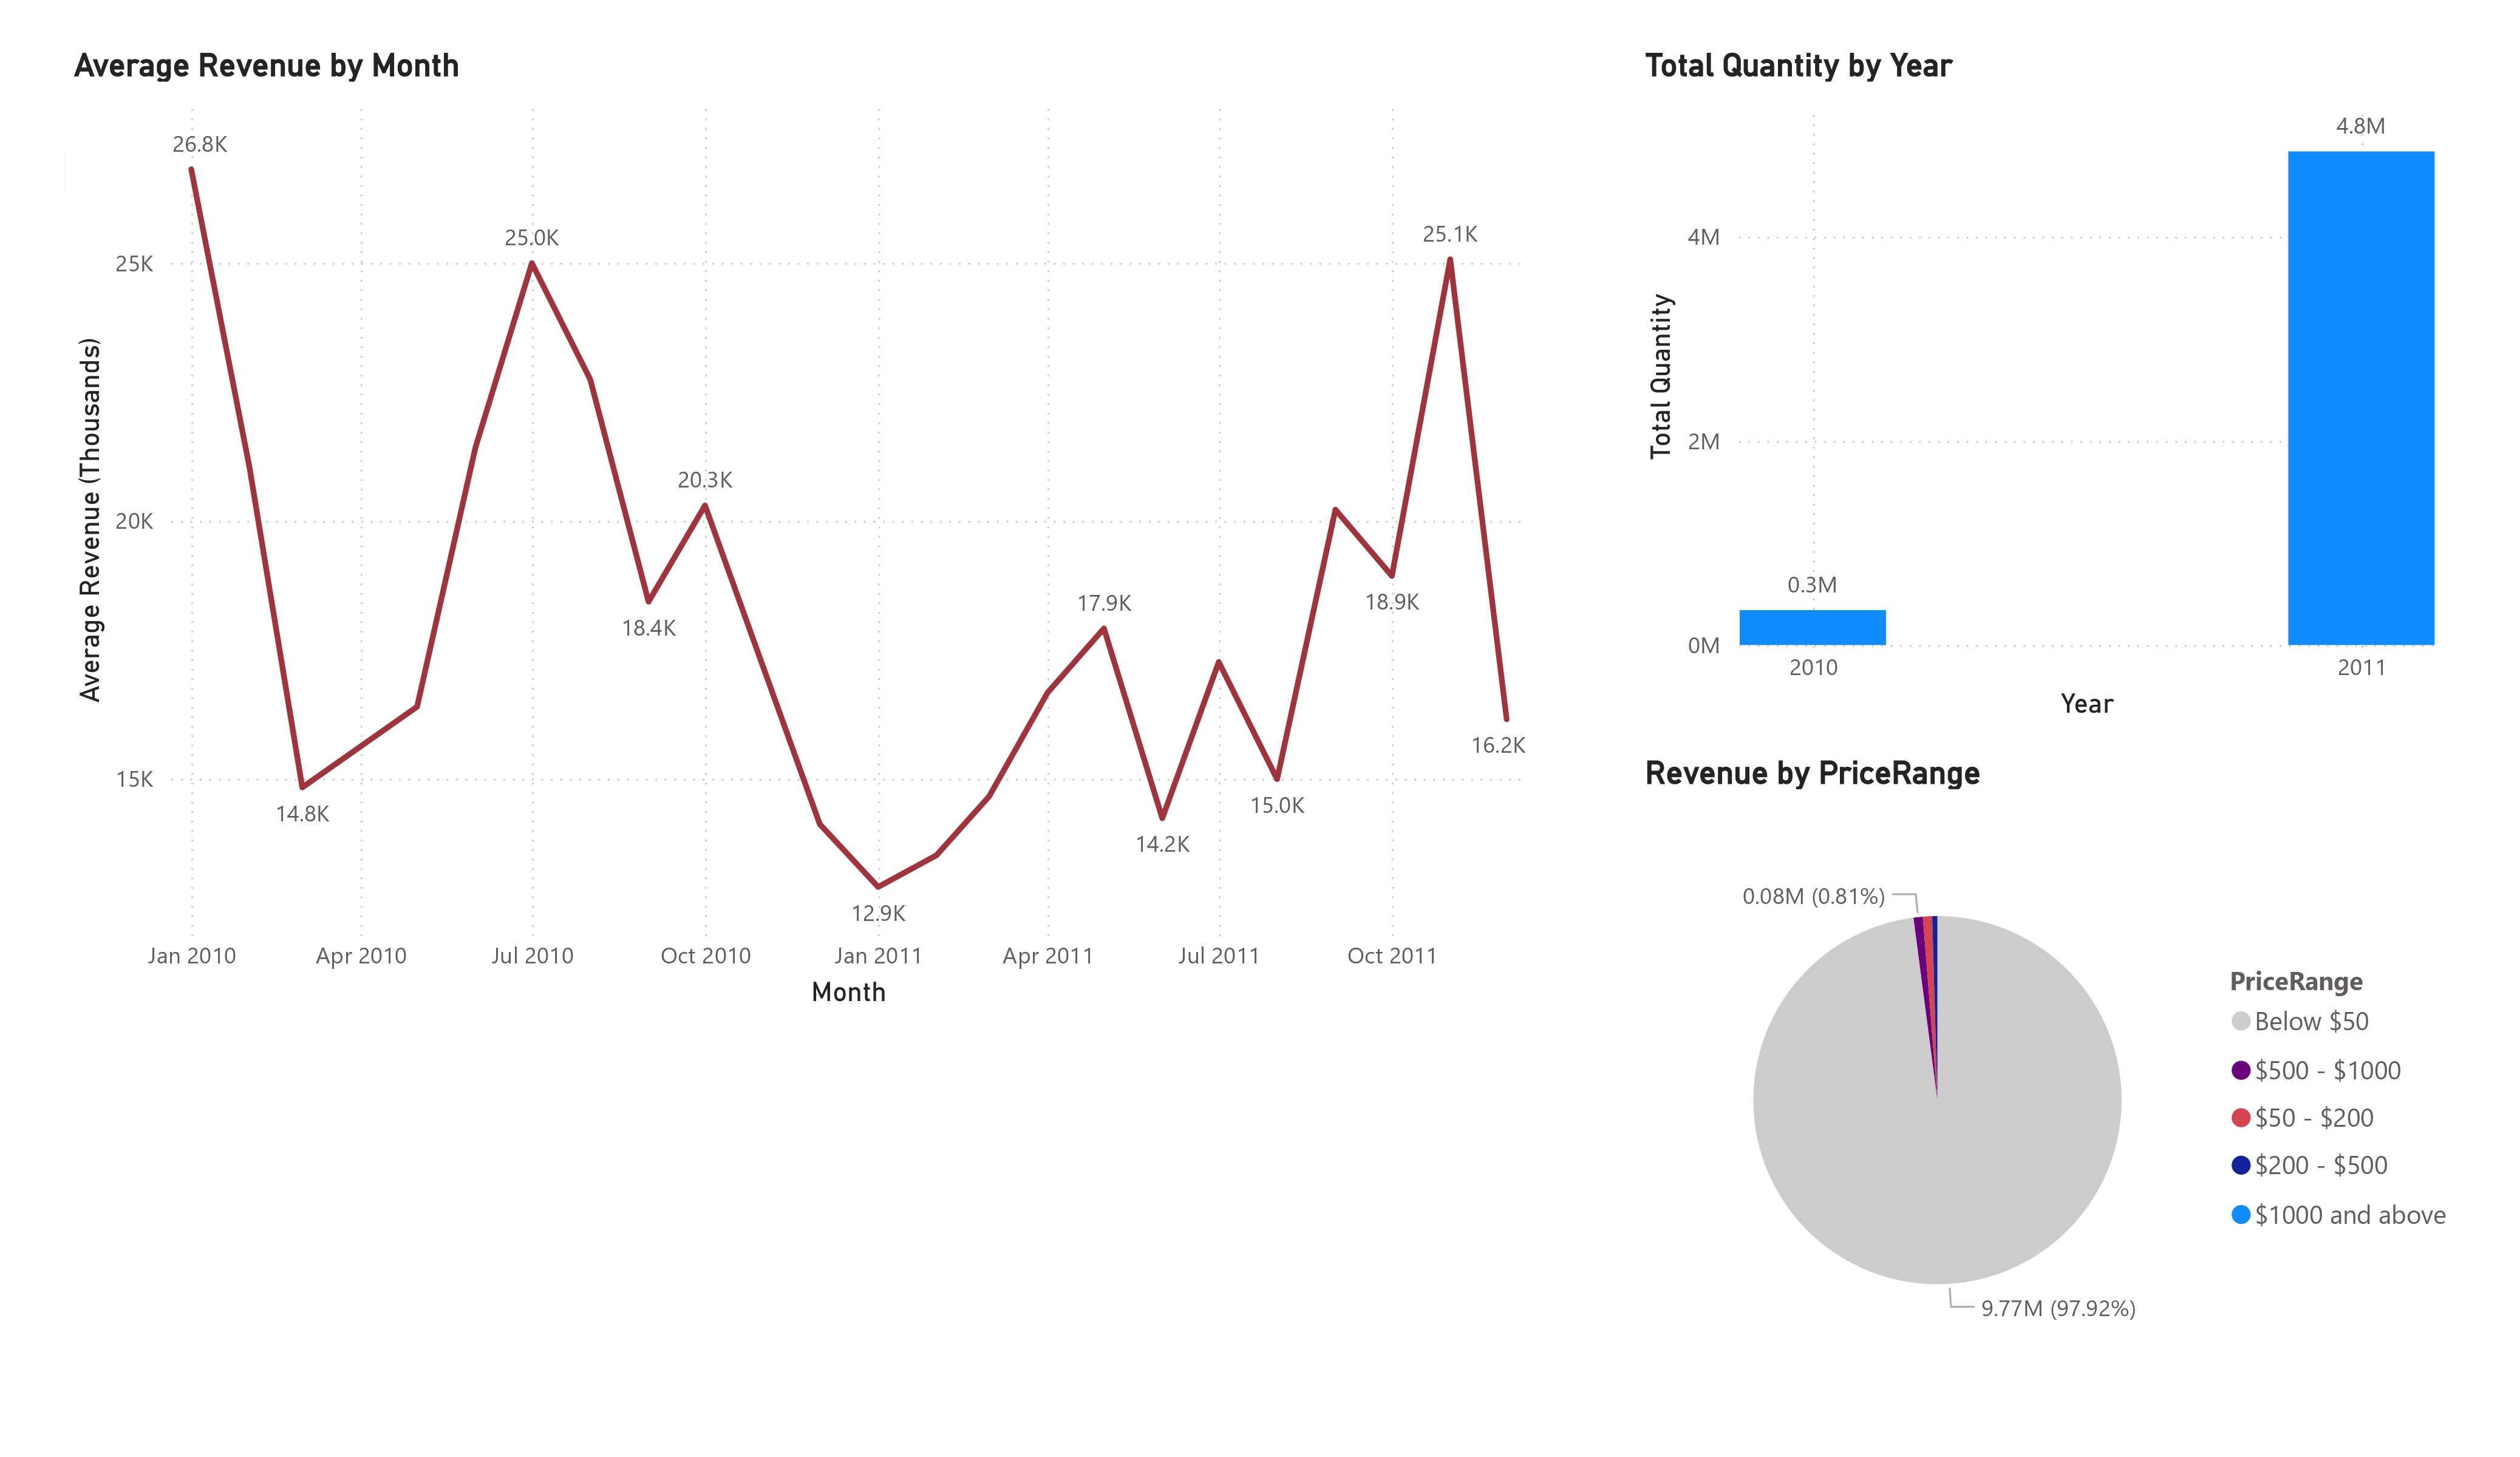

Layout of this report page (visuals, bound fields, positions):
{"tool":"powerbi","page":{"name":"Page 1","canvas":[1280,720],"ordinal":0},"visuals":[{"type":"tableEx","box":[10,0,280,280],"z":0},{"type":"lineChart","title":"Average Revenue by Month","fields":{"Category":["SummarizedTable1.InvoiceDate.Variation.Date Hierarchy.Year","SummarizedTable1.InvoiceDate.Variation.Date Hierarchy.Quarter","SummarizedTable1.InvoiceDate.Variation.Date Hierarchy.Month","SummarizedTable1.InvoiceDate.Variation.Date Hierarchy.Day"],"Y":["Sum(SummarizedTable1.Average Revenue)"]},"box":[9.6,0,789,511.8],"z":1},{"type":"columnChart","title":"Total Quantity by Year","fields":{"Category":["data.InvoiceDate.Variation.Date Hierarchy.Year"],"Y":["Sum(data.Quantity)"]},"box":[838.4,0,425.4,359.5],"z":2},{"type":"pieChart","title":"Revenue by PriceRange","fields":{"Category":["data.PriceRange"],"Y":["Sum(data.Revenue)"]},"box":[838.4,373.2,441.9,347.2],"z":3}]}

Visuals, with their boxes on the page's 1280x720 design canvas (x1, y1, x2, y2). These are canvas units, not pixel positions in the 2520x1457 screenshot, which may show the page scaled, cropped or inside an application window:
tableEx: bbox=[10, 0, 290, 280]
"Average Revenue by Month" lineChart: bbox=[10, 0, 799, 512]
"Total Quantity by Year" columnChart: bbox=[838, 0, 1264, 360]
"Revenue by PriceRange" pieChart: bbox=[838, 373, 1280, 720]
